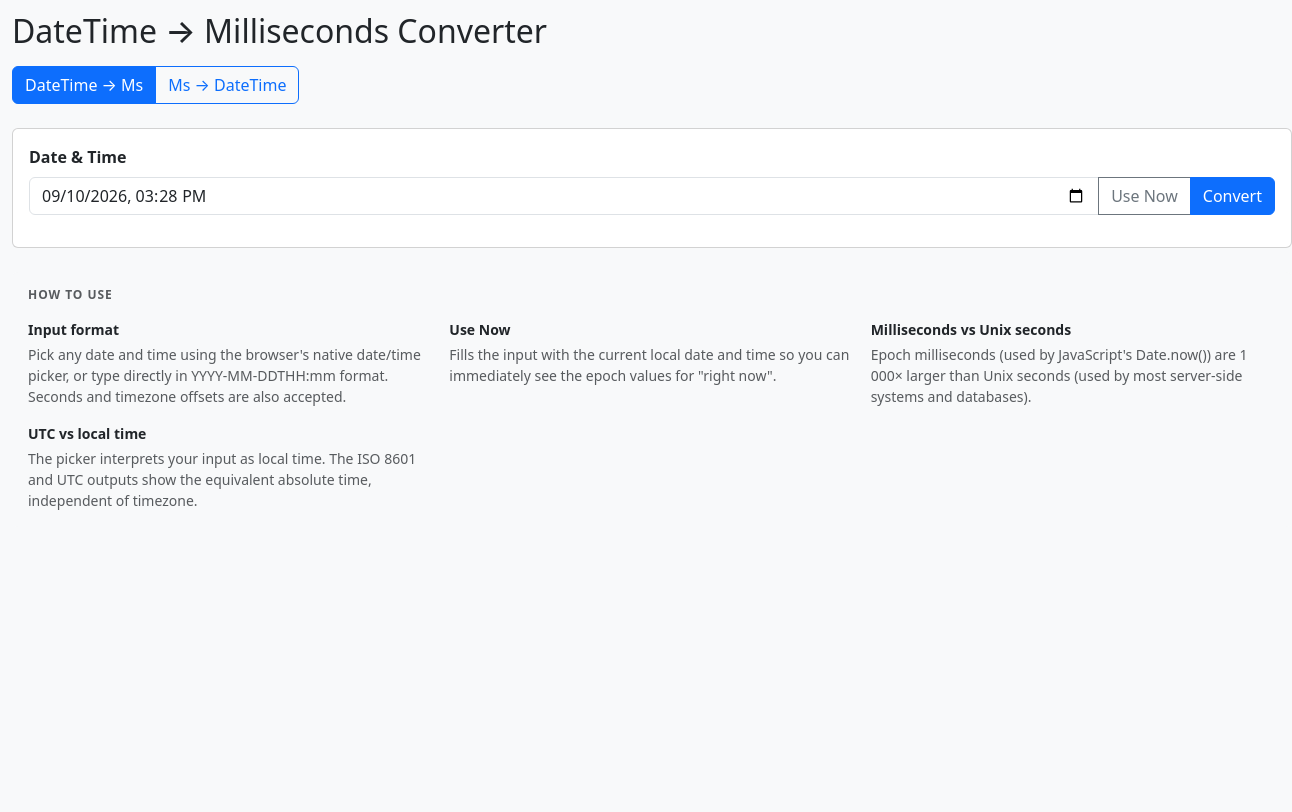
Scenario: MillisecondConverter › mode toggle › converts milliseconds to datetime and shows result rows
Click the button "Ms → DateTime" at (227, 85), box [155, 66, 299, 104]
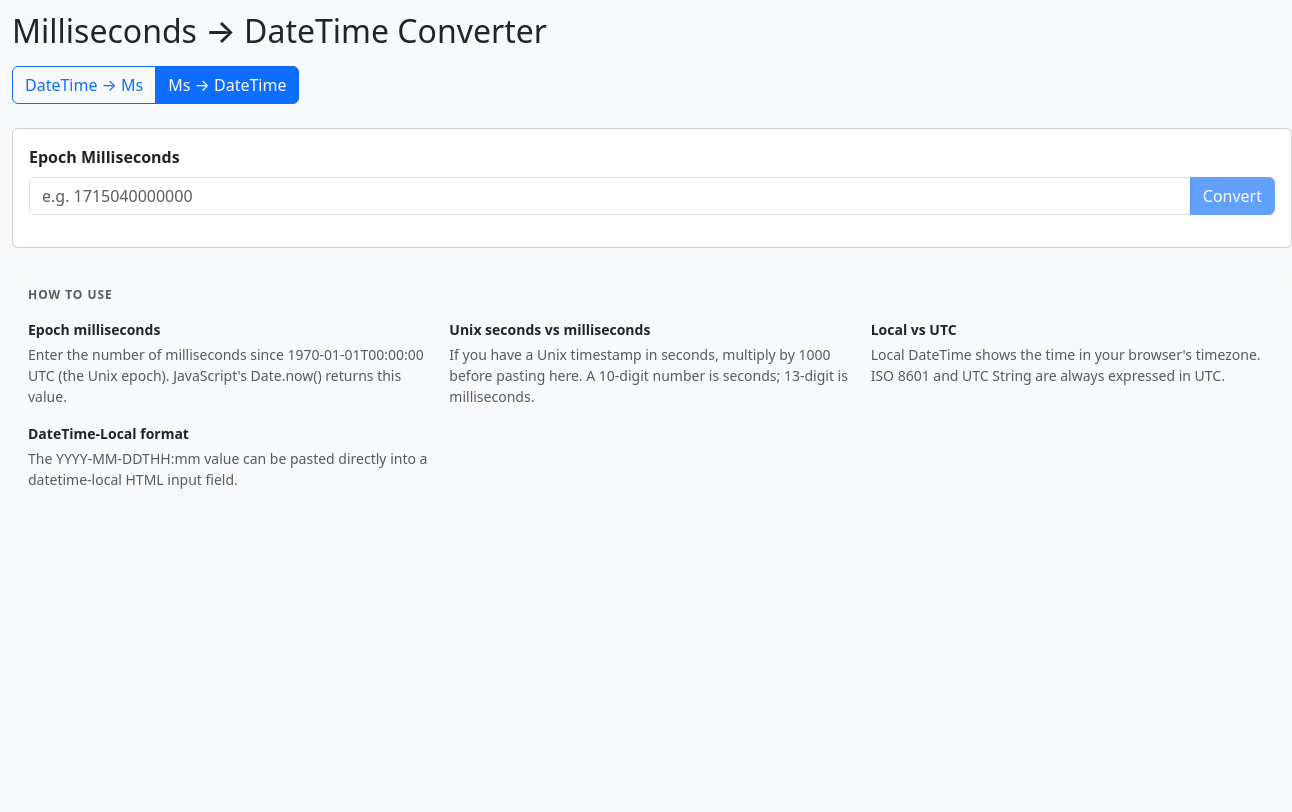
Type "0" into the number field named "Milliseconds input" at (610, 196), box [29, 177, 1191, 215]
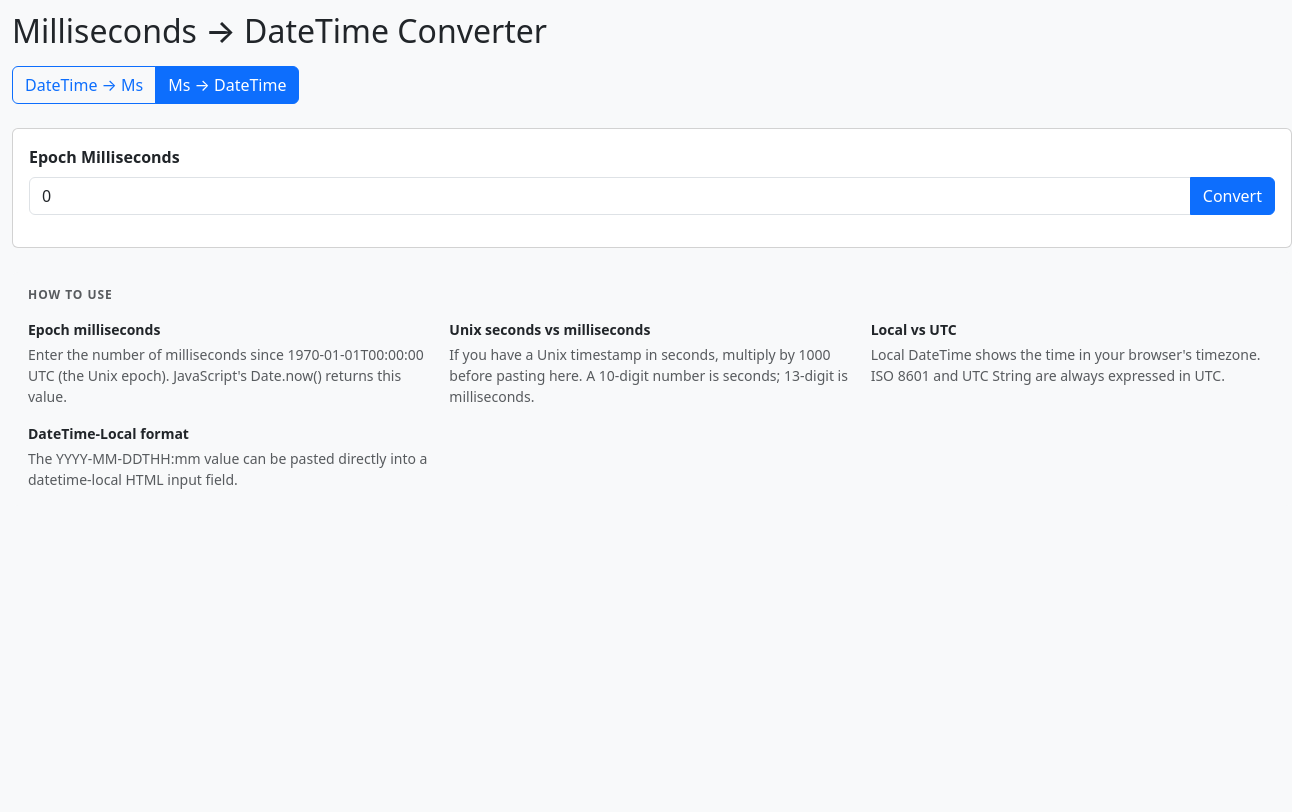
Click the button "Convert" at (1232, 196), box [1190, 177, 1275, 215]
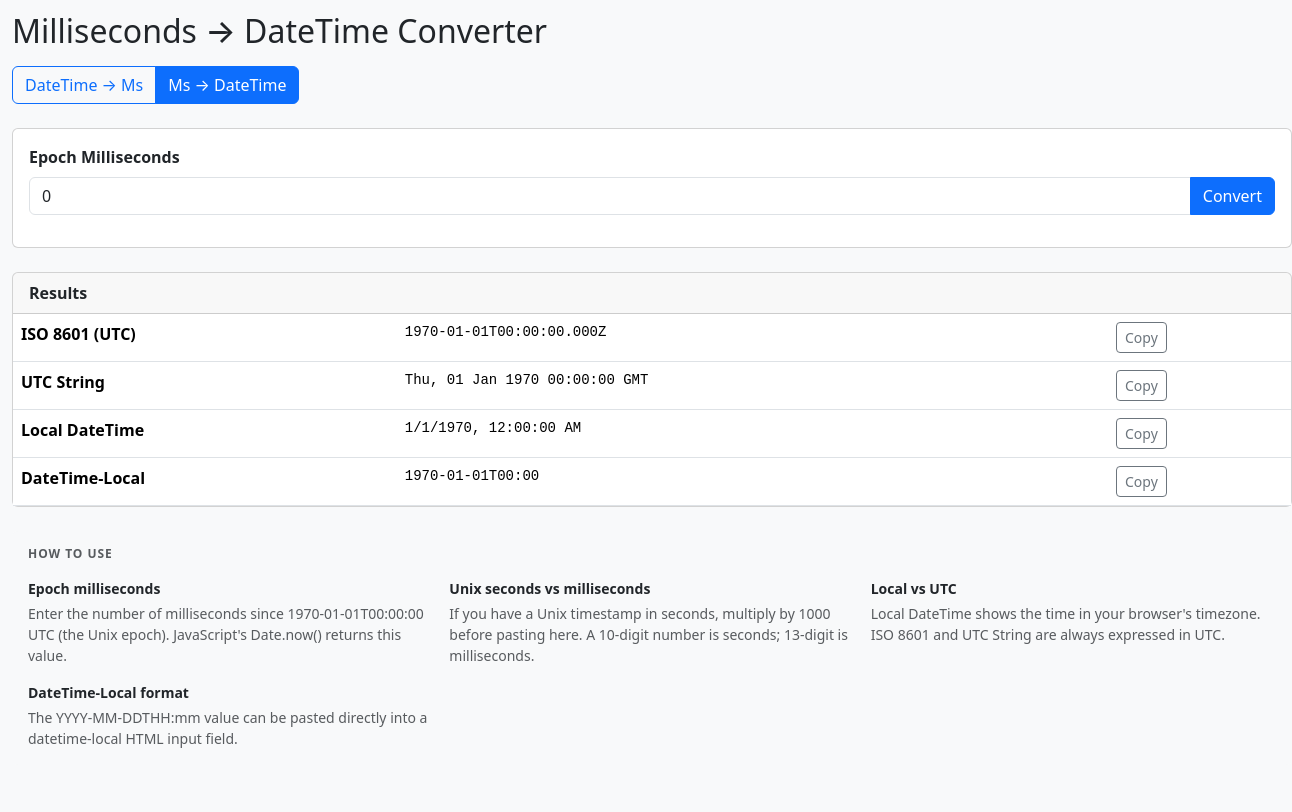
Now the text "ISO 8601 (UTC)" is shown, box [13, 314, 397, 362]
Now the text "UTC String" is shown, box [13, 362, 397, 410]
Now the text "Local DateTime" is shown, box [13, 410, 397, 458]
